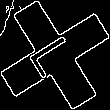L_NE: (25, 28, 85, 82)
